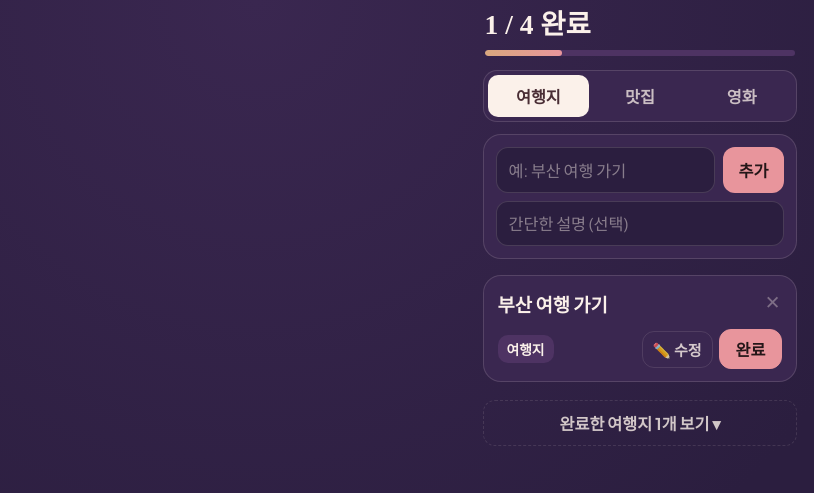
Test case: BucketList › shows an error message when adding fails
In the field with placeholder "예: 부산 여행 가기": (605, 170) [496,147,714,193], type "한강 피크닉"
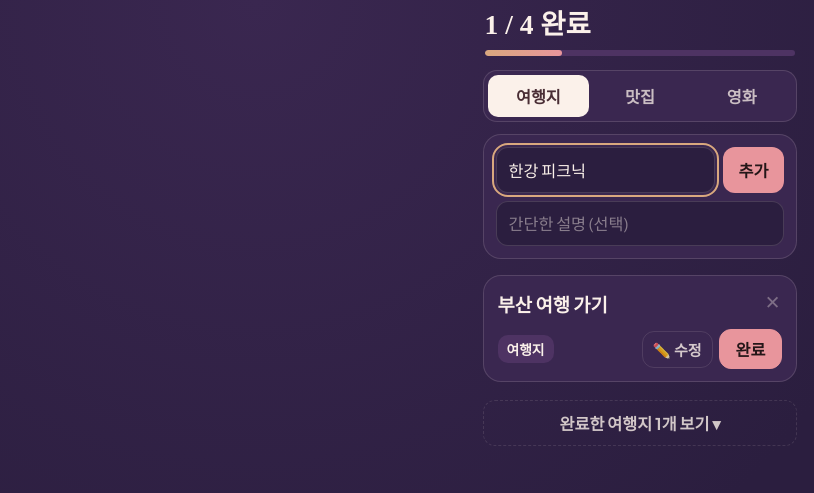
Click the button "추가": (753, 170) [722,147,784,193]
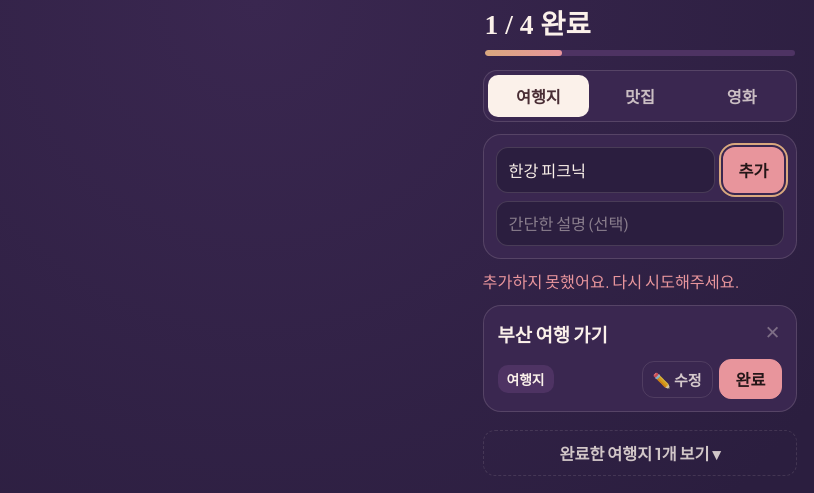
Expected: the text "추가하지 못했어요. 다시 시도해주세요." is shown, [482,271,739,292]
